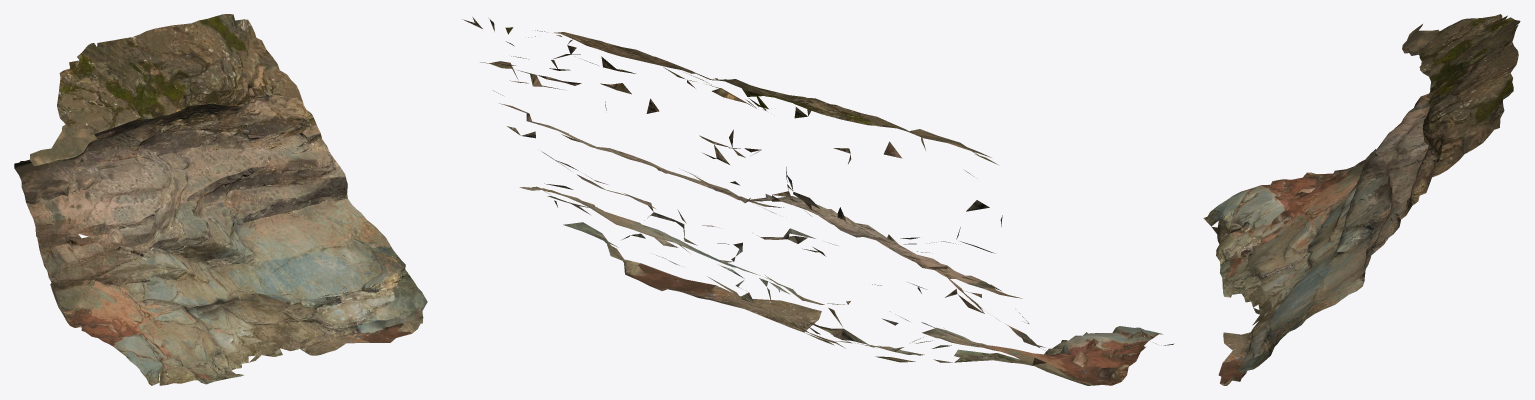
The model's file is paredao2.glb.
3 views of the same model, side by side, from view 1: azimuth 30°, elevation 25°; view 2: azimuth 150°, elevation 25°; view 3: azimuth 270°, elevation 25° (orthographic). The views are drawn at different scales.
Visible parts, largest first — view 1: paredao2; view 2: paredao2; view 3: paredao2.
Boxes of the visible parts, box(x1,y1,x2,y2) form: paredao2: box(14, 14, 427, 385); paredao2: box(463, 17, 1174, 385); paredao2: box(1203, 14, 1520, 385).
Size of the model in its own units: 4.93 by 3.55 by 3.82.
1 material, 1 textured.
